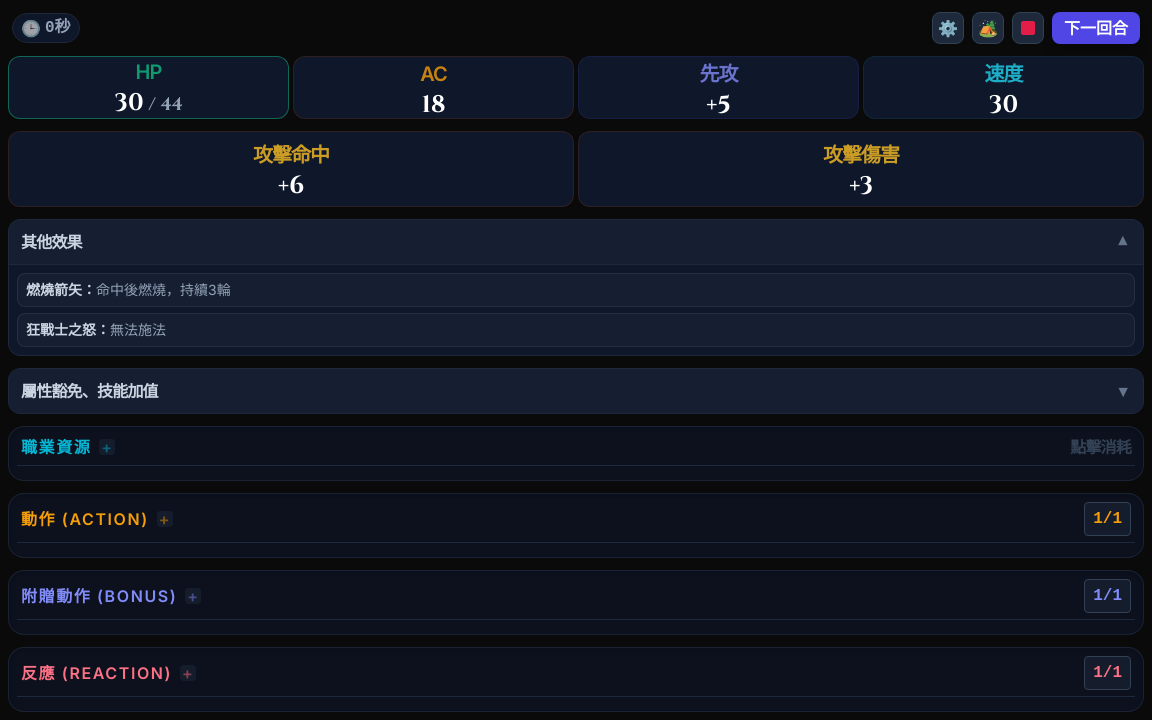
Test: CombatView - 其他效果獨立可收合區塊 › 點擊「其他效果」標題可收合，再點一次重新展開
Click the text "其他效果".
click(51, 242)  # box [21,230,82,254]
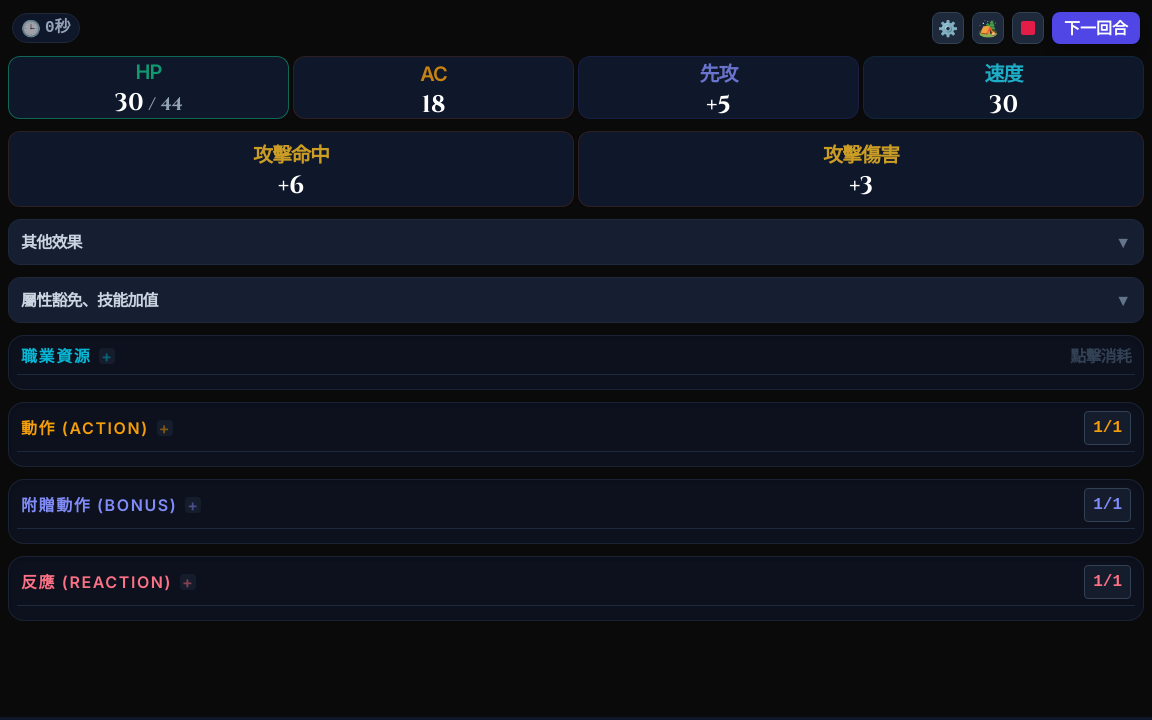
Check: the text "命中後燃燒，持續3輪" is gone
Click the text "其他效果".
click(51, 242)  # box [21,230,82,254]
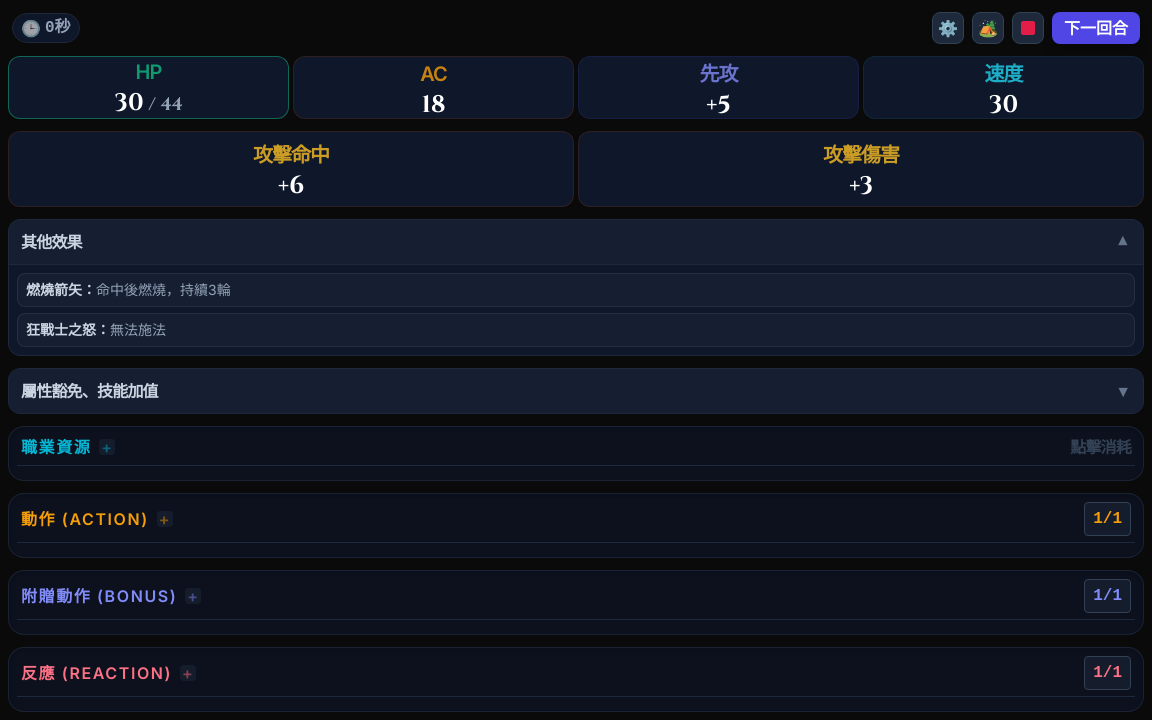
Check: the text "命中後燃燒，持續3輪" is shown, box [96,281,231,298]
